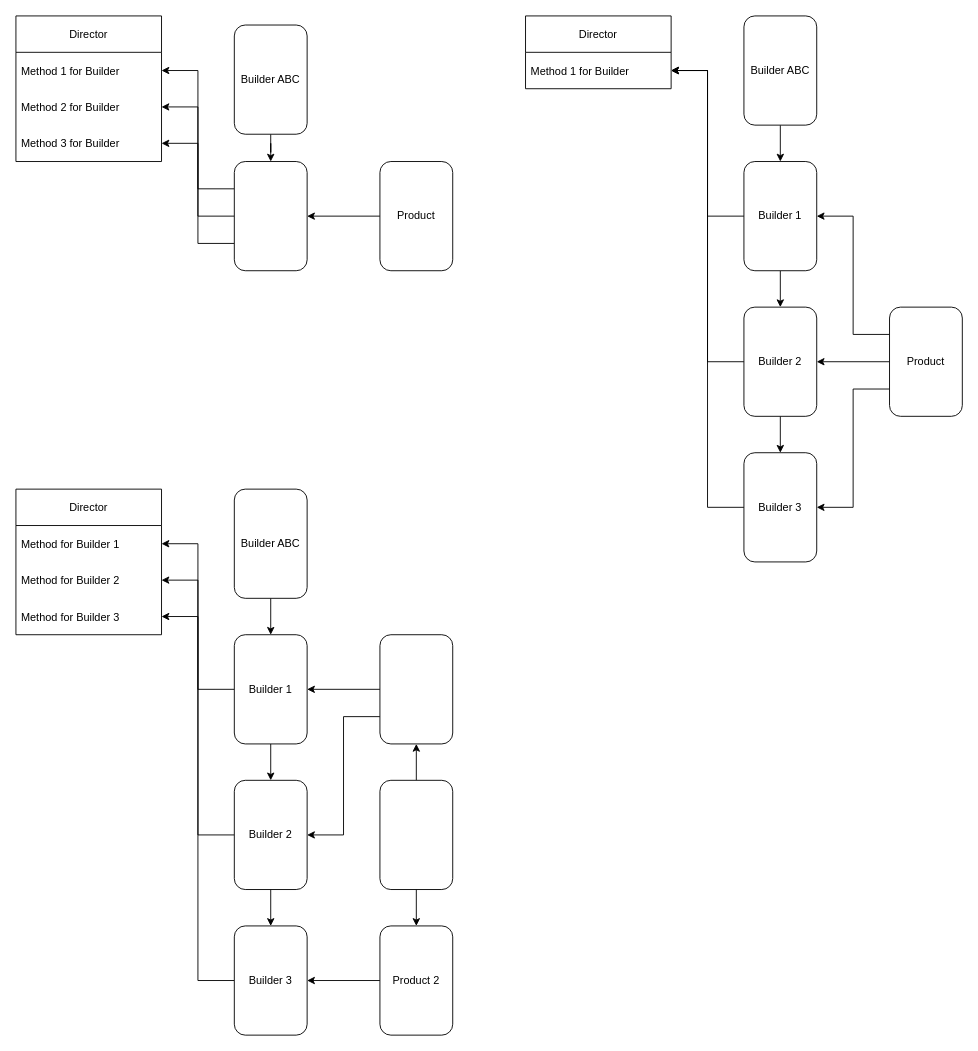
The diagram is 978 pixels wide and 1051 high, and some of its shapes have lost their labels. The centre of each missing label's shape, as x and y in pixels:
"Builder" belongs at pixel 270 216.
"Product 1" belongs at pixel 416 689.
"Product Prototype" belongs at pixel 416 834.
